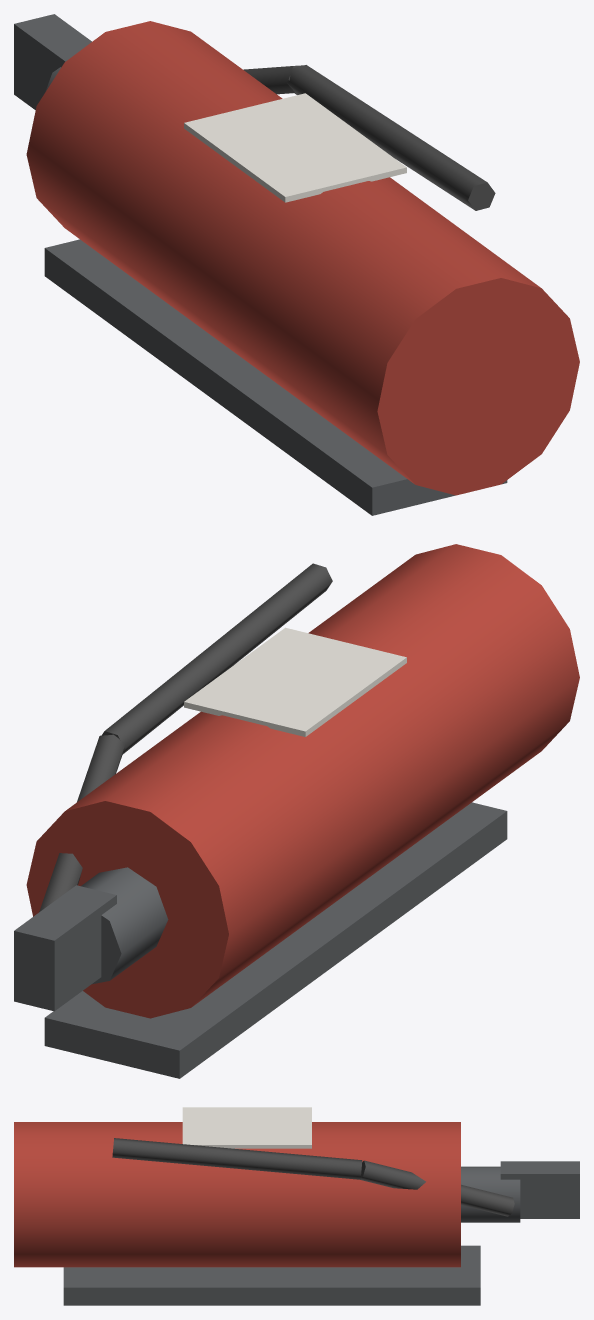
File: extinguisher_steel.glb
The picture shows the model from 3 angles, top to bottom: view 1: azimuth 30°, elevation 25°; view 2: azimuth 150°, elevation 25°; view 3: azimuth 270°, elevation 25°; orthographic projection. The views are drawn at different scales.
Visible parts, largest first — view 1: extinguisher_steel; view 2: extinguisher_steel; view 3: extinguisher_steel.
Part boxes in pixels (bbox=[...]): extinguisher_steel: bbox=[14, 14, 579, 515]; extinguisher_steel: bbox=[14, 544, 579, 1078]; extinguisher_steel: bbox=[14, 1107, 579, 1305].
Size of the model in its own units: 0.155 by 0.1888 by 0.57.
